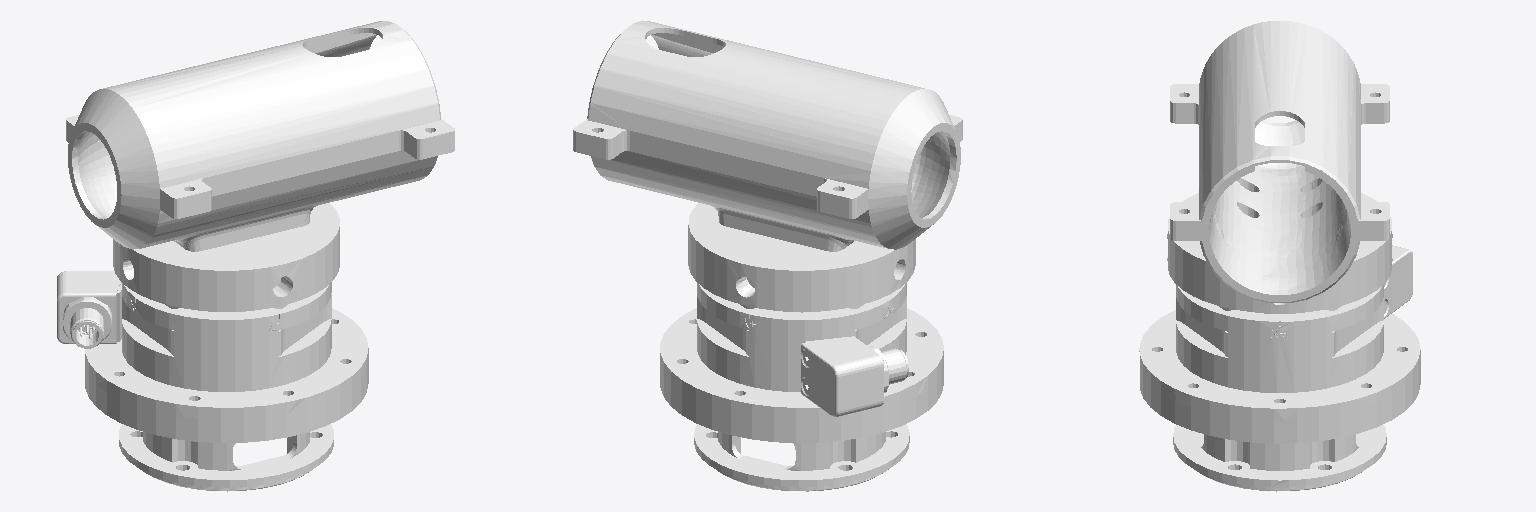
The robot description file, URDF, robot "gen3_adaptor":
<?xml version="1.0" ?>
<!-- =================================================================================== -->
<!-- |    This document was autogenerated by xacro from [local-path]/catkin_ws/src/adaptor/adaptor_description/robots/gen3_adaptor.xacro | -->
<!-- |    EDITING THIS FILE BY HAND IS NOT RECOMMENDED                                 | -->
<!-- =================================================================================== -->
<robot name="gen3_adaptor">
    <!-- Run the macros -->
    <link name="world" />
    <joint name="world_to_root" type="fixed">
        <child link="base_link" />
        <parent link="world" />
        <origin rpy="0 0 0" xyz="0 0 0" />
    </joint>
    <link name="base_link">
        <inertial>
            <origin rpy="0 0 0" xyz="-0.000648 -0.000166 0.084487" />
            <mass value="1.697" />
            <inertia ixx="0.004622" ixy="9E-06" ixz="6E-05" iyy="0.004495" iyz="9E-06" izz="0.002079" />
        </inertial>
        <visual>
            <origin rpy="0 0 0" xyz="0 0 0" />
            <geometry>
                <mesh filename="package://kortex_description/arms/gen3/7dof/meshes/base_link.STL" />
            </geometry>
            <material name="">
                <color rgba="0.75294 0.75294 0.75294 1" />
            </material>
        </visual>
        <collision>
            <origin rpy="0 0 0" xyz="0 0 0" />
            <geometry>
                <mesh filename="package://kortex_description/arms/gen3/7dof/meshes/base_link.STL" />
            </geometry>
        </collision>
    </link>
    <link name="shoulder_link">
        <inertial>
            <origin rpy="0 0 0" xyz="-2.3E-05 -0.010364 -0.07336" />
            <mass value="1.3773" />
            <inertia ixx="0.00457" ixy="1E-06" ixz="2E-06" iyy="0.004831" iyz="0.000448" izz="0.001409" />
        </inertial>
        <visual>
            <origin rpy="0 0 0" xyz="0 0 0" />
            <geometry>
                <mesh filename="package://kortex_description/arms/gen3/7dof/meshes/shoulder_link.STL" />
            </geometry>
            <material name="">
                <color rgba="0.75294 0.75294 0.75294 1" />
            </material>
        </visual>
        <collision>
            <origin rpy="0 0 0" xyz="0 0 0" />
            <geometry>
                <mesh filename="package://kortex_description/arms/gen3/7dof/meshes/shoulder_link.STL" />
            </geometry>
        </collision>
    </link>
    <joint name="joint_1" type="continuous">
        <origin rpy="3.1416 2.7629E-18 -4.9305E-36" xyz="0 0 0.15643" />
        <parent link="base_link" />
        <child link="shoulder_link" />
        <axis xyz="0 0 1" />
        <limit effort="39" velocity="1.3963" />
    </joint>
    <link name="half_arm_1_link">
        <inertial>
            <origin rpy="0 0 0" xyz="-4.4E-05 -0.09958 -0.013278" />
            <mass value="1.1636" />
            <inertia ixx="0.011088" ixy="5E-06" ixz="0" iyy="0.001072" iyz="-0.000691" izz="0.011255" />
        </inertial>
        <visual>
            <origin rpy="0 0 0" xyz="0 0 0" />
            <geometry>
                <mesh filename="package://kortex_description/arms/gen3/7dof/meshes/half_arm_1_link.STL" />
            </geometry>
            <material name="">
                <color rgba="0.75294 0.75294 0.75294 1" />
            </material>
        </visual>
        <collision>
            <origin rpy="0 0 0" xyz="0 0 0" />
            <geometry>
                <mesh filename="package://kortex_description/arms/gen3/7dof/meshes/half_arm_1_link.STL" />
            </geometry>
        </collision>
    </link>
    <joint name="joint_2" type="revolute">
        <origin rpy="1.5708 2.1343E-17 -1.1102E-16" xyz="0 0.005375 -0.12838" />
        <parent link="shoulder_link" />
        <child link="half_arm_1_link" />
        <axis xyz="0 0 1" />
        <limit effort="39" lower="-2.24" upper="2.24" velocity="1.3963" />
    </joint>
    <link name="half_arm_2_link">
        <inertial>
            <origin rpy="0 0 0" xyz="-4.4E-05 -0.006641 -0.117892" />
            <mass value="1.1636" />
            <inertia ixx="0.010932" ixy="0" ixz="-7E-06" iyy="0.011127" iyz="0.000606" izz="0.001043" />
        </inertial>
        <visual>
            <origin rpy="0 0 0" xyz="0 0 0" />
            <geometry>
                <mesh filename="package://kortex_description/arms/gen3/7dof/meshes/half_arm_2_link.STL" />
            </geometry>
            <material name="">
                <color rgba="0.75294 0.75294 0.75294 1" />
            </material>
        </visual>
        <collision>
            <origin rpy="0 0 0" xyz="0 0 0" />
            <geometry>
                <mesh filename="package://kortex_description/arms/gen3/7dof/meshes/half_arm_2_link.STL" />
            </geometry>
        </collision>
    </link>
    <joint name="joint_3" type="continuous">
        <origin rpy="-1.5708 1.2326E-32 -2.9122E-16" xyz="0 -0.21038 -0.006375" />
        <parent link="half_arm_1_link" />
        <child link="half_arm_2_link" />
        <axis xyz="0 0 1" />
        <limit effort="39" velocity="1.3963" />
    </joint>
    <link name="forearm_link">
        <inertial>
            <origin rpy="0 0 0" xyz="-1.8E-05 -0.075478 -0.015006" />
            <mass value="0.9302" />
            <inertia ixx="0.008147" ixy="-1E-06" ixz="0" iyy="0.000631" iyz="-0.0005" izz="0.008316" />
        </inertial>
        <visual>
            <origin rpy="0 0 0" xyz="0 0 0" />
            <geometry>
                <mesh filename="package://kortex_description/arms/gen3/7dof/meshes/forearm_link.STL" />
            </geometry>
            <material name="">
                <color rgba="0.75294 0.75294 0.75294 1" />
            </material>
        </visual>
        <collision>
            <origin rpy="0 0 0" xyz="0 0 0" />
            <geometry>
                <mesh filename="package://kortex_description/arms/gen3/7dof/meshes/forearm_link.STL" />
            </geometry>
        </collision>
    </link>
    <joint name="joint_4" type="revolute">
        <origin rpy="1.5708 -6.6954E-17 -1.6653E-16" xyz="0 0.006375 -0.21038" />
        <parent link="half_arm_2_link" />
        <child link="forearm_link" />
        <axis xyz="0 0 1" />
        <limit effort="39" lower="-2.57" upper="2.57" velocity="1.3963" />
    </joint>
    <link name="spherical_wrist_1_link">
        <inertial>
            <origin rpy="0 0 0" xyz="1E-06 -0.009432 -0.063883" />
            <mass value="0.6781" />
            <inertia ixx="0.001596" ixy="0" ixz="0" iyy="0.001607" iyz="0.000256" izz="0.000399" />
        </inertial>
        <visual>
            <origin rpy="0 0 0" xyz="0 0 0" />
            <geometry>
                <mesh filename="package://kortex_description/arms/gen3/7dof/meshes/spherical_wrist_1_link.STL" />
            </geometry>
            <material name="">
                <color rgba="0.75294 0.75294 0.75294 1" />
            </material>
        </visual>
        <collision>
            <origin rpy="0 0 0" xyz="0 0 0" />
            <geometry>
                <mesh filename="package://kortex_description/arms/gen3/7dof/meshes/spherical_wrist_1_link.STL" />
            </geometry>
        </collision>
    </link>
    <joint name="joint_5" type="continuous">
        <origin rpy="-1.5708 2.2204E-16 -6.373E-17" xyz="0 -0.20843 -0.006375" />
        <parent link="forearm_link" />
        <child link="spherical_wrist_1_link" />
        <axis xyz="0 0 1" />
        <limit effort="9" velocity="1.2218" />
    </joint>
    <link name="spherical_wrist_2_link">
        <inertial>
            <origin rpy="0 0 0" xyz="1E-06 -0.045483 -0.00965" />
            <mass value="0.6781" />
            <inertia ixx="0.001641" ixy="0" ixz="0" iyy="0.00041" iyz="-0.000278" izz="0.001641" />
        </inertial>
        <visual>
            <origin rpy="0 0 0" xyz="0 0 0" />
            <geometry>
                <mesh filename="package://kortex_description/arms/gen3/7dof/meshes/spherical_wrist_2_link.STL" />
            </geometry>
            <material name="">
                <color rgba="0.75294 0.75294 0.75294 1" />
            </material>
        </visual>
        <collision>
            <origin rpy="0 0 0" xyz="0 0 0" />
            <geometry>
                <mesh filename="package://kortex_description/arms/gen3/7dof/meshes/spherical_wrist_2_link.STL" />
            </geometry>
        </collision>
    </link>
    <joint name="joint_6" type="revolute">
        <origin rpy="1.5708 9.2076E-28 -8.2157E-15" xyz="0 0.00017505 -0.10593" />
        <parent link="spherical_wrist_1_link" />
        <child link="spherical_wrist_2_link" />
        <axis xyz="0 0 1" />
        <limit effort="9" lower="-2.09" upper="2.09" velocity="1.2218" />
    </joint>
    <link name="bracelet_link">
        <inertial>
            <origin rpy="0 0 0" xyz="0.000281 0.011402 -0.029798" />
            <mass value="0.5" />
            <inertia ixx="0.000587" ixy="3E-06" ixz="3E-06" iyy="0.000369" iyz="-0.000118" izz="0.000609" />
        </inertial>
        <visual>
            <origin rpy="0 0 0" xyz="0 0 0" />
            <geometry>
                <mesh filename="package://kortex_description/arms/gen3/7dof/meshes/bracelet_with_vision_link.STL" />
            </geometry>
            <material name="">
                <color rgba="0.75294 0.75294 0.75294 1" />
            </material>
        </visual>
        <collision>
            <origin rpy="0 0 0" xyz="0 0 0" />
            <geometry>
                <mesh filename="package://kortex_description/arms/gen3/7dof/meshes/bracelet_with_vision_link.STL" />
            </geometry>
        </collision>
    </link>
    <joint name="joint_7" type="continuous">
        <origin rpy="-1.5708 -5.5511E-17 9.6396E-17" xyz="0 -0.10593 -0.00017505" />
        <parent link="spherical_wrist_2_link" />
        <child link="bracelet_link" />
        <axis xyz="0 0 1" />
        <limit effort="9" velocity="1.2218" />
    </joint>
    <link name="end_effector_link" />
    <joint name="end_effector" type="fixed">
        <origin rpy="3.14159265358979 1.09937075168372E-32 0" xyz="0 0 -0.0615250000000001" />
        <parent link="bracelet_link" />
        <child link="end_effector_link" />
        <axis xyz="0 0 0" />
    </joint>
    <link name="camera_link" />
    <joint name="camera_module" type="fixed">
        <origin rpy="3.14159265358979 3.14159265358979 0" xyz="0 0.05639 -0.00305" />
        <parent link="end_effector_link" />
        <child link="camera_link" />
    </joint>
    <link name="camera_depth_frame" />
    <joint name="depth_module" type="fixed">
        <origin rpy="3.14159265358979 3.14159265358979 0" xyz="0.0275 0.066 -0.00305" />
        <parent link="end_effector_link" />
        <child link="camera_depth_frame" />
    </joint>
    <link name="camera_color_frame" />
    <joint name="color_module" type="fixed">
        <origin rpy="3.14159265358979 3.14159265358979 0" xyz="0 0.05639 -0.00305" />
        <parent link="end_effector_link" />
        <child link="camera_color_frame" />
    </joint>
    <joint name="adaptor_base_joint" type="fixed">
        <origin rpy="0 0 0" xyz="0 0 0" />
        <parent link="end_effector_link" />
        <child link="adaptor_base_link" />
    </joint>
    <link name="adaptor_base_link">
        <inertial>
            <origin rpy="0 0 0" xyz="-0.0015897 0.0012554 0.03991" />
            <mass value="0.3316" />
            <inertia ixx="0.0001341" ixy="-5.884E-08" ixz="-8.1474E-08" iyy="0.00013588" iyz="7.6324E-10" izz="0.0002384" />
        </inertial>
        <visual>
            <origin rpy="0 0 0" xyz="0 0 0" />
            <geometry>
                <mesh filename="package://adaptor_description/meshes/adaptor_base_link.STL" />
            </geometry>
            <material name="">
                <color rgba="1 1 1 1" />
            </material>
        </visual>
        <collision>
            <origin rpy="0 0 0" xyz="0 0 0" />
            <geometry>
                <mesh filename="package://adaptor_description/meshes/adaptor_base_link.STL" />
            </geometry>
        </collision>
    </link>
    <link name="sensor_link">
        <inertial>
            <origin rpy="0 0 0" xyz="0.0048347 -2.1042E-05 0.033921" />
            <mass value="0.0979" />
            <inertia ixx="8.4795E-05" ixy="-4.7661E-08" ixz="6.9975E-07" iyy="0.00018165" iyz="4.4135E-09" izz="0.00024653" />
        </inertial>
        <visual>
            <origin rpy="0 0 0" xyz="0 0 0" />
            <geometry>
                <mesh filename="package://adaptor_description/meshes/sensor_link.STL" />
            </geometry>
            <material name="">
                <color rgba="1 1 1 1" />
            </material>
        </visual>
        <collision>
            <origin rpy="0 0 0" xyz="0 0 0" />
            <geometry>
                <mesh filename="package://adaptor_description/meshes/sensor_link.STL" />
            </geometry>
        </collision>
    </link>
    <joint name="sensor_joint" type="fixed">
        <origin rpy="0 0 0" xyz="0 0 0.06835" />
        <parent link="adaptor_base_link" />
        <child link="sensor_link" />
    </joint>
    <transmission name="joint_1_transmission">
        <type>transmission_interface/SimpleTransmission</type>
        <joint name="joint_1">
            <hardwareInterface>hardware_interface/VelocityJointInterface</hardwareInterface>
        </joint>
        <actuator name="joint_1_motor">
            <mechanicalReduction>1</mechanicalReduction>
            <hardwareInterface>hardware_interface/VelocityJointInterface</hardwareInterface>
        </actuator>
    </transmission>
    <transmission name="joint_2_transmission">
        <type>transmission_interface/SimpleTransmission</type>
        <joint name="joint_2">
            <hardwareInterface>hardware_interface/VelocityJointInterface</hardwareInterface>
        </joint>
        <actuator name="joint_2_motor">
            <mechanicalReduction>1</mechanicalReduction>
            <hardwareInterface>hardware_interface/VelocityJointInterface</hardwareInterface>
        </actuator>
    </transmission>
    <transmission name="joint_3_transmission">
        <type>transmission_interface/SimpleTransmission</type>
        <joint name="joint_3">
            <hardwareInterface>hardware_interface/VelocityJointInterface</hardwareInterface>
        </joint>
        <actuator name="joint_3_motor">
            <mechanicalReduction>1</mechanicalReduction>
            <hardwareInterface>hardware_interface/VelocityJointInterface</hardwareInterface>
        </actuator>
    </transmission>
    <transmission name="joint_4_transmission">
        <type>transmission_interface/SimpleTransmission</type>
        <joint name="joint_4">
            <hardwareInterface>hardware_interface/VelocityJointInterface</hardwareInterface>
        </joint>
        <actuator name="joint_4_motor">
            <mechanicalReduction>1</mechanicalReduction>
            <hardwareInterface>hardware_interface/VelocityJointInterface</hardwareInterface>
        </actuator>
    </transmission>
    <transmission name="joint_5_transmission">
        <type>transmission_interface/SimpleTransmission</type>
        <joint name="joint_5">
            <hardwareInterface>hardware_interface/VelocityJointInterface</hardwareInterface>
        </joint>
        <actuator name="joint_5_motor">
            <mechanicalReduction>1</mechanicalReduction>
            <hardwareInterface>hardware_interface/VelocityJointInterface</hardwareInterface>
        </actuator>
    </transmission>
    <transmission name="joint_6_transmission">
        <type>transmission_interface/SimpleTransmission</type>
        <joint name="joint_6">
            <hardwareInterface>hardware_interface/VelocityJointInterface</hardwareInterface>
        </joint>
        <actuator name="joint_6_motor">
            <mechanicalReduction>1</mechanicalReduction>
            <hardwareInterface>hardware_interface/VelocityJointInterface</hardwareInterface>
        </actuator>
    </transmission>
    <transmission name="joint_7_transmission">
        <type>transmission_interface/SimpleTransmission</type>
        <joint name="joint_7">
            <hardwareInterface>hardware_interface/VelocityJointInterface</hardwareInterface>
        </joint>
        <actuator name="joint_7_motor">
            <mechanicalReduction>1</mechanicalReduction>
            <hardwareInterface>hardware_interface/VelocityJointInterface</hardwareInterface>
        </actuator>
    </transmission>
    <!--<gazebo> -->
    <!--<plugin name="gazebo_ros_control" filename="libgazebo_ros_control.so"> -->
    <!--<legacyModeNS>true</legacyModeNS> -->
    <!--</plugin> -->
    <!-- </gazebo> -->
    <gazebo>
        <plugin filename="libgazebo_ros_control.so" name="gazebo_ros_control">
            <robotNamespace>/</robotNamespace>
        </plugin>
    </gazebo>
</robot>

--- Render facts (derived) ---
3 views of the same robot in one strip: view 1: azimuth 30°, elevation 25°; view 2: azimuth 150°, elevation 25°; view 3: azimuth 270°, elevation 25° (orthographic).
Robot: gen3_adaptor — 15 links, 14 joints (3 revolute, 4 continuous, 7 fixed); root link world; default pose: all joints at 0.
Visible links, largest first — view 1: sensor_link, adaptor_base_link; view 2: sensor_link, adaptor_base_link; view 3: sensor_link, adaptor_base_link.
Link boxes in pixels (bbox=[...]): sensor_link: bbox=[66, 21, 454, 311]; adaptor_base_link: bbox=[57, 271, 368, 491]; sensor_link: bbox=[573, 20, 962, 311]; adaptor_base_link: bbox=[660, 283, 943, 491]; sensor_link: bbox=[1167, 21, 1392, 313]; adaptor_base_link: bbox=[1139, 245, 1420, 491].
Bounding box of the posed robot: 0.125 × 0.1 × 0.1484 m (x, y, z).
2 mesh visuals loaded from 10 distinct referenced files (2 binary STL); not drawn: 8 (reference not matched to a file when rendering).